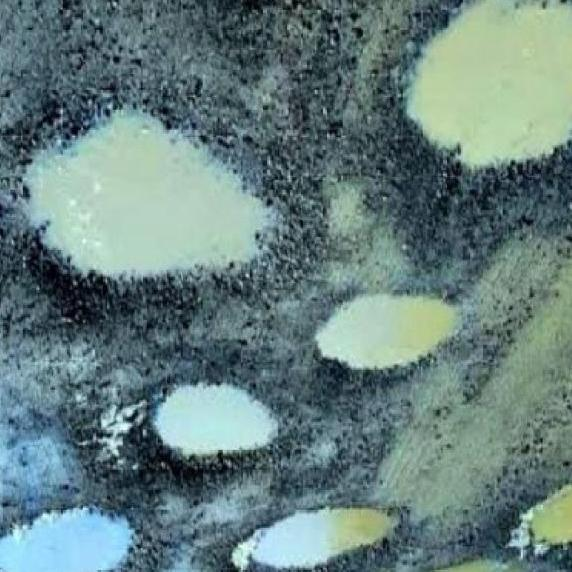pothole: (19, 111, 267, 301), (399, 0, 572, 179), (99, 374, 291, 484), (306, 286, 455, 370), (226, 507, 397, 572), (0, 498, 140, 572), (508, 472, 572, 566), (406, 560, 525, 572)
